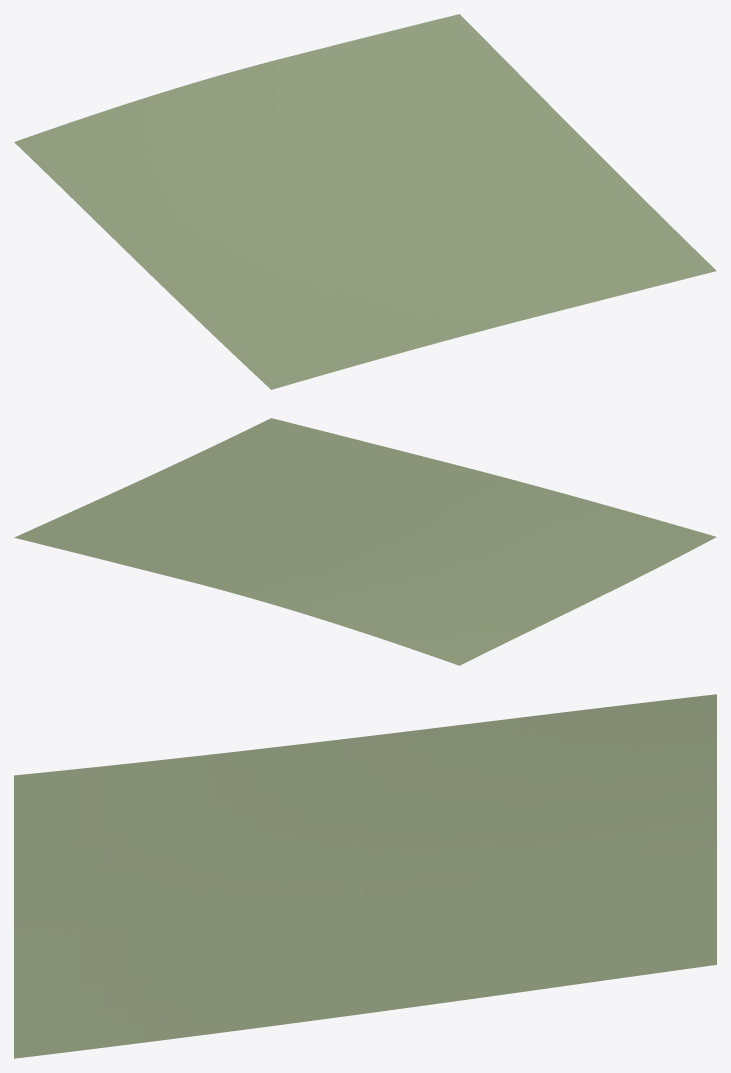
The model's file is desert-24-11.glb.
3 views of the same model, one above another, from view 1: azimuth 30°, elevation 25°; view 2: azimuth 150°, elevation 25°; view 3: azimuth 270°, elevation 25° (orthographic). The views are drawn at different scales.
Parts seen in each view (by area): view 1: desert-24-11; view 2: desert-24-11; view 3: desert-24-11.
Part boxes in pixels (x1,y1,x2,y2): desert-24-11: (14,14,716,389); desert-24-11: (14,418,716,665); desert-24-11: (14,694,716,1058).
Bounding box in the file's own units: 512 × 86.59 × 512.
